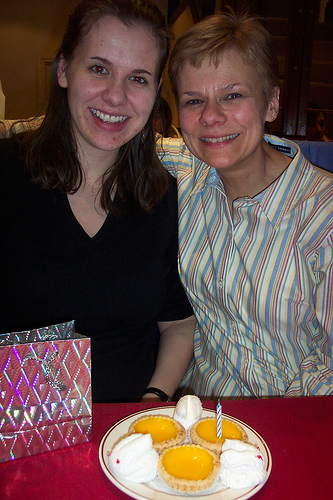without_mask: (162, 17, 292, 171), (50, 3, 172, 158)
